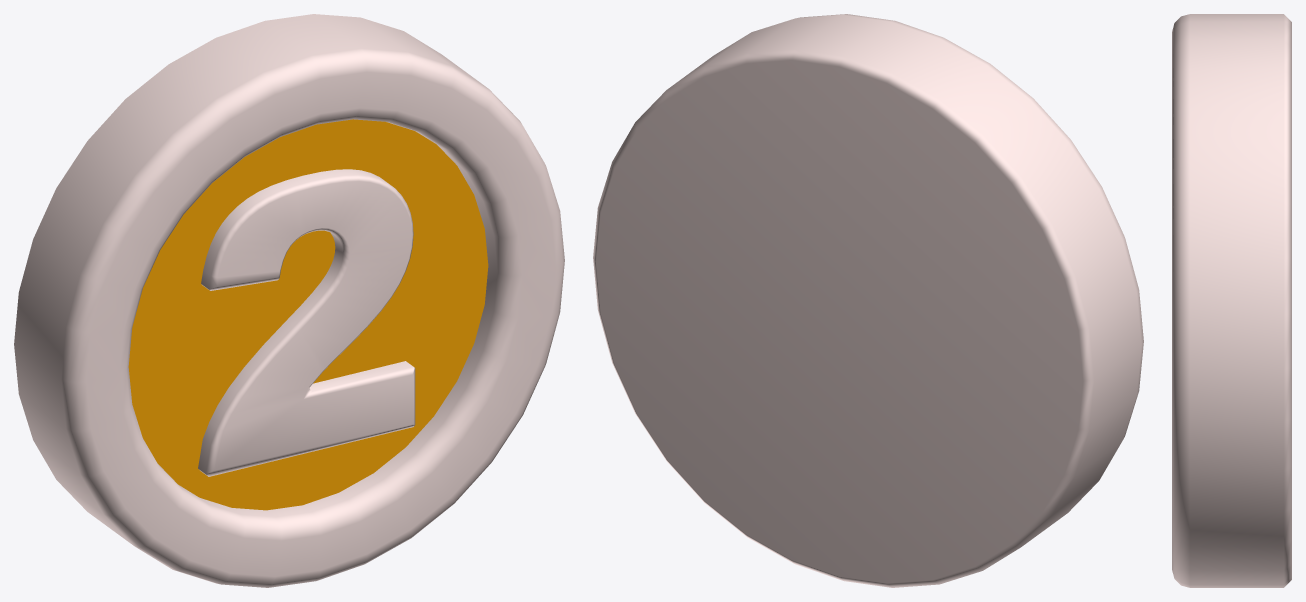
Rendered from City_20_Number_House_2.glb.
The picture shows the model from 3 angles, left to right: view 1: azimuth 30°, elevation 25°; view 2: azimuth 150°, elevation 25°; view 3: azimuth 270°, elevation 25°; orthographic projection.
Visible parts, largest first — view 1: City_20_Number_House_2; view 2: City_20_Number_House_2; view 3: City_20_Number_House_2.
Part boxes in pixels (bbox=[...]): City_20_Number_House_2: bbox=[14, 14, 564, 587]; City_20_Number_House_2: bbox=[593, 14, 1143, 587]; City_20_Number_House_2: bbox=[1172, 14, 1291, 587].
Size of the model in its own units: 0.5101 by 0.5101 by 0.1065.
Materials: 1 (1 with a texture image).
